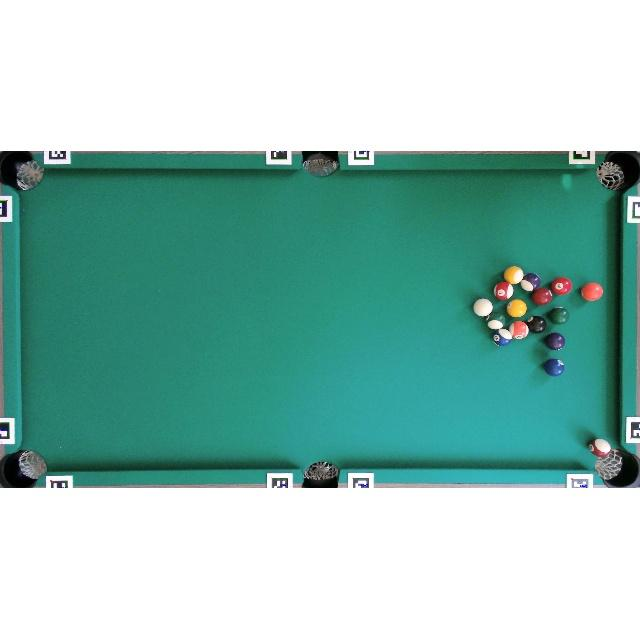cue ball: (473, 298, 493, 317)
other: (580, 282, 604, 301), (588, 438, 610, 458), (507, 298, 528, 318), (521, 272, 541, 292), (509, 320, 529, 340), (544, 332, 566, 350), (543, 358, 565, 376), (532, 287, 552, 306), (551, 277, 572, 295), (526, 316, 546, 334), (492, 329, 512, 347), (487, 312, 507, 330), (548, 307, 569, 324), (494, 282, 513, 300), (504, 266, 523, 284)
